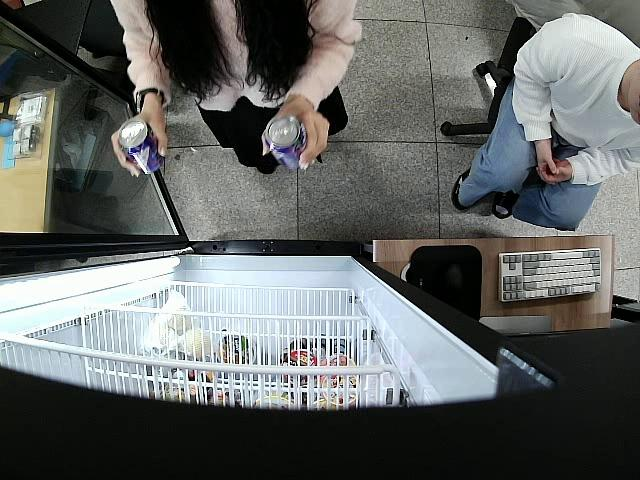00_hand: (262, 99, 329, 171), (110, 111, 170, 177)
14_welchsGrape: (263, 113, 309, 170), (116, 119, 161, 174)
